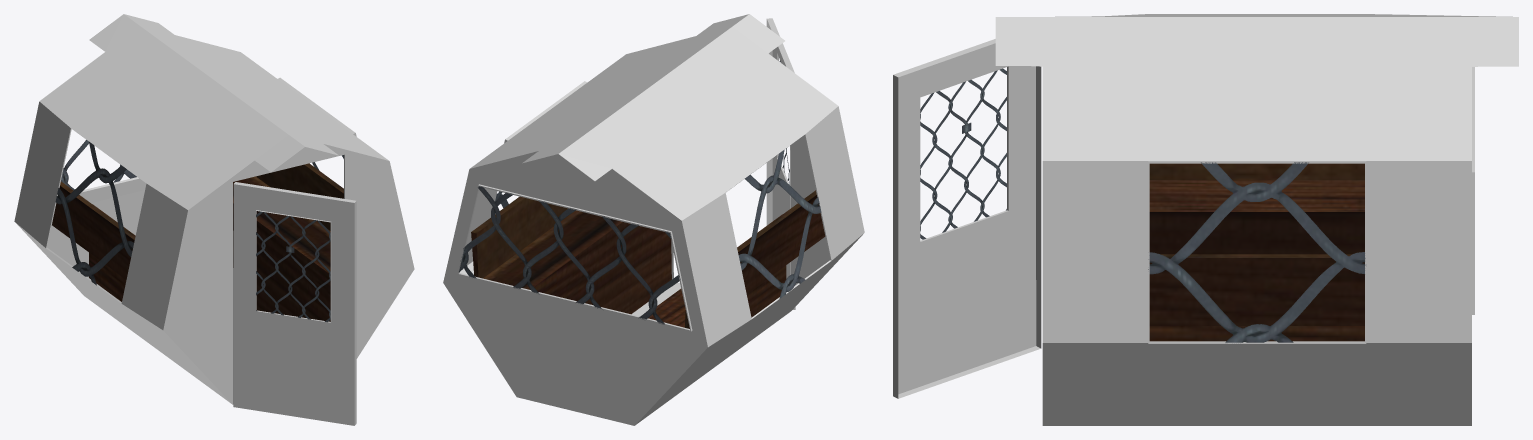
Rendered from Cabine.fbx.
3 renders of one model, left to right at view 1: azimuth 30°, elevation 25°; view 2: azimuth 150°, elevation 25°; view 3: azimuth 270°, elevation 25°, orthographic. The views are drawn at different scales.
Visible parts, largest first — view 1: CabineDaRG.001, PortaDaRG.001, BancosDaRG.001, CabineDaRG.002, JanelaDaPortaDaRG.001; view 2: CabineDaRG.001, BancosDaRG.001, CabineDaRG.002, PortaDaRG.001; view 3: CabineDaRG.001, PortaDaRG.001, BancosDaRG.001, CabineDaRG.002, JanelaDaPortaDaRG.001.
Boxes of the visible parts, left/top/right/bottom form: CabineDaRG.001: left=14, top=14, right=414, bottom=404; PortaDaRG.001: left=233, top=182, right=356, bottom=425; BancosDaRG.001: left=52, top=163, right=343, bottom=321; CabineDaRG.002: left=55, top=140, right=343, bottom=285; JanelaDaPortaDaRG.001: left=256, top=211, right=330, bottom=322; CabineDaRG.001: left=443, top=14, right=864, bottom=425; BancosDaRG.001: left=471, top=190, right=825, bottom=328; CabineDaRG.002: left=459, top=149, right=821, bottom=324; PortaDaRG.001: left=766, top=18, right=795, bottom=309; CabineDaRG.001: left=995, top=14, right=1518, bottom=425; PortaDaRG.001: left=893, top=39, right=1041, bottom=398; BancosDaRG.001: left=1149, top=163, right=1364, bottom=341; CabineDaRG.002: left=1148, top=162, right=1365, bottom=342; JanelaDaPortaDaRG.001: left=920, top=68, right=1006, bottom=239.
Bounding box in the file's own units: 201 × 190 × 292.
3 materials, 2 textured.
